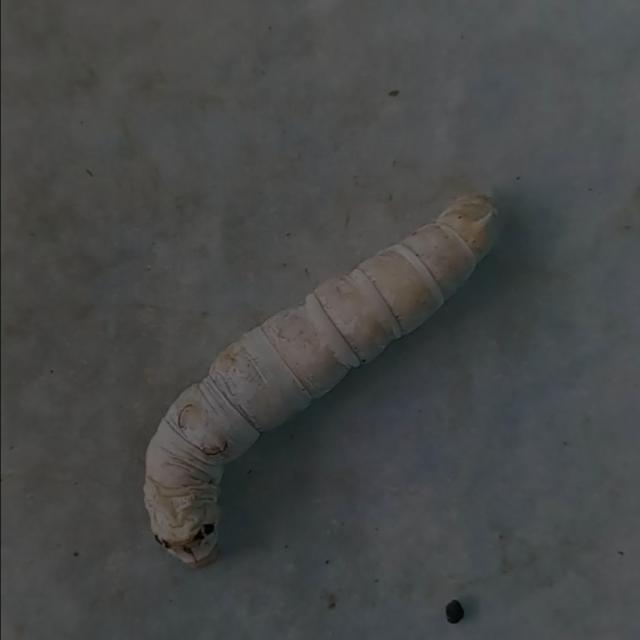Grasserie: (118, 163, 518, 586)
